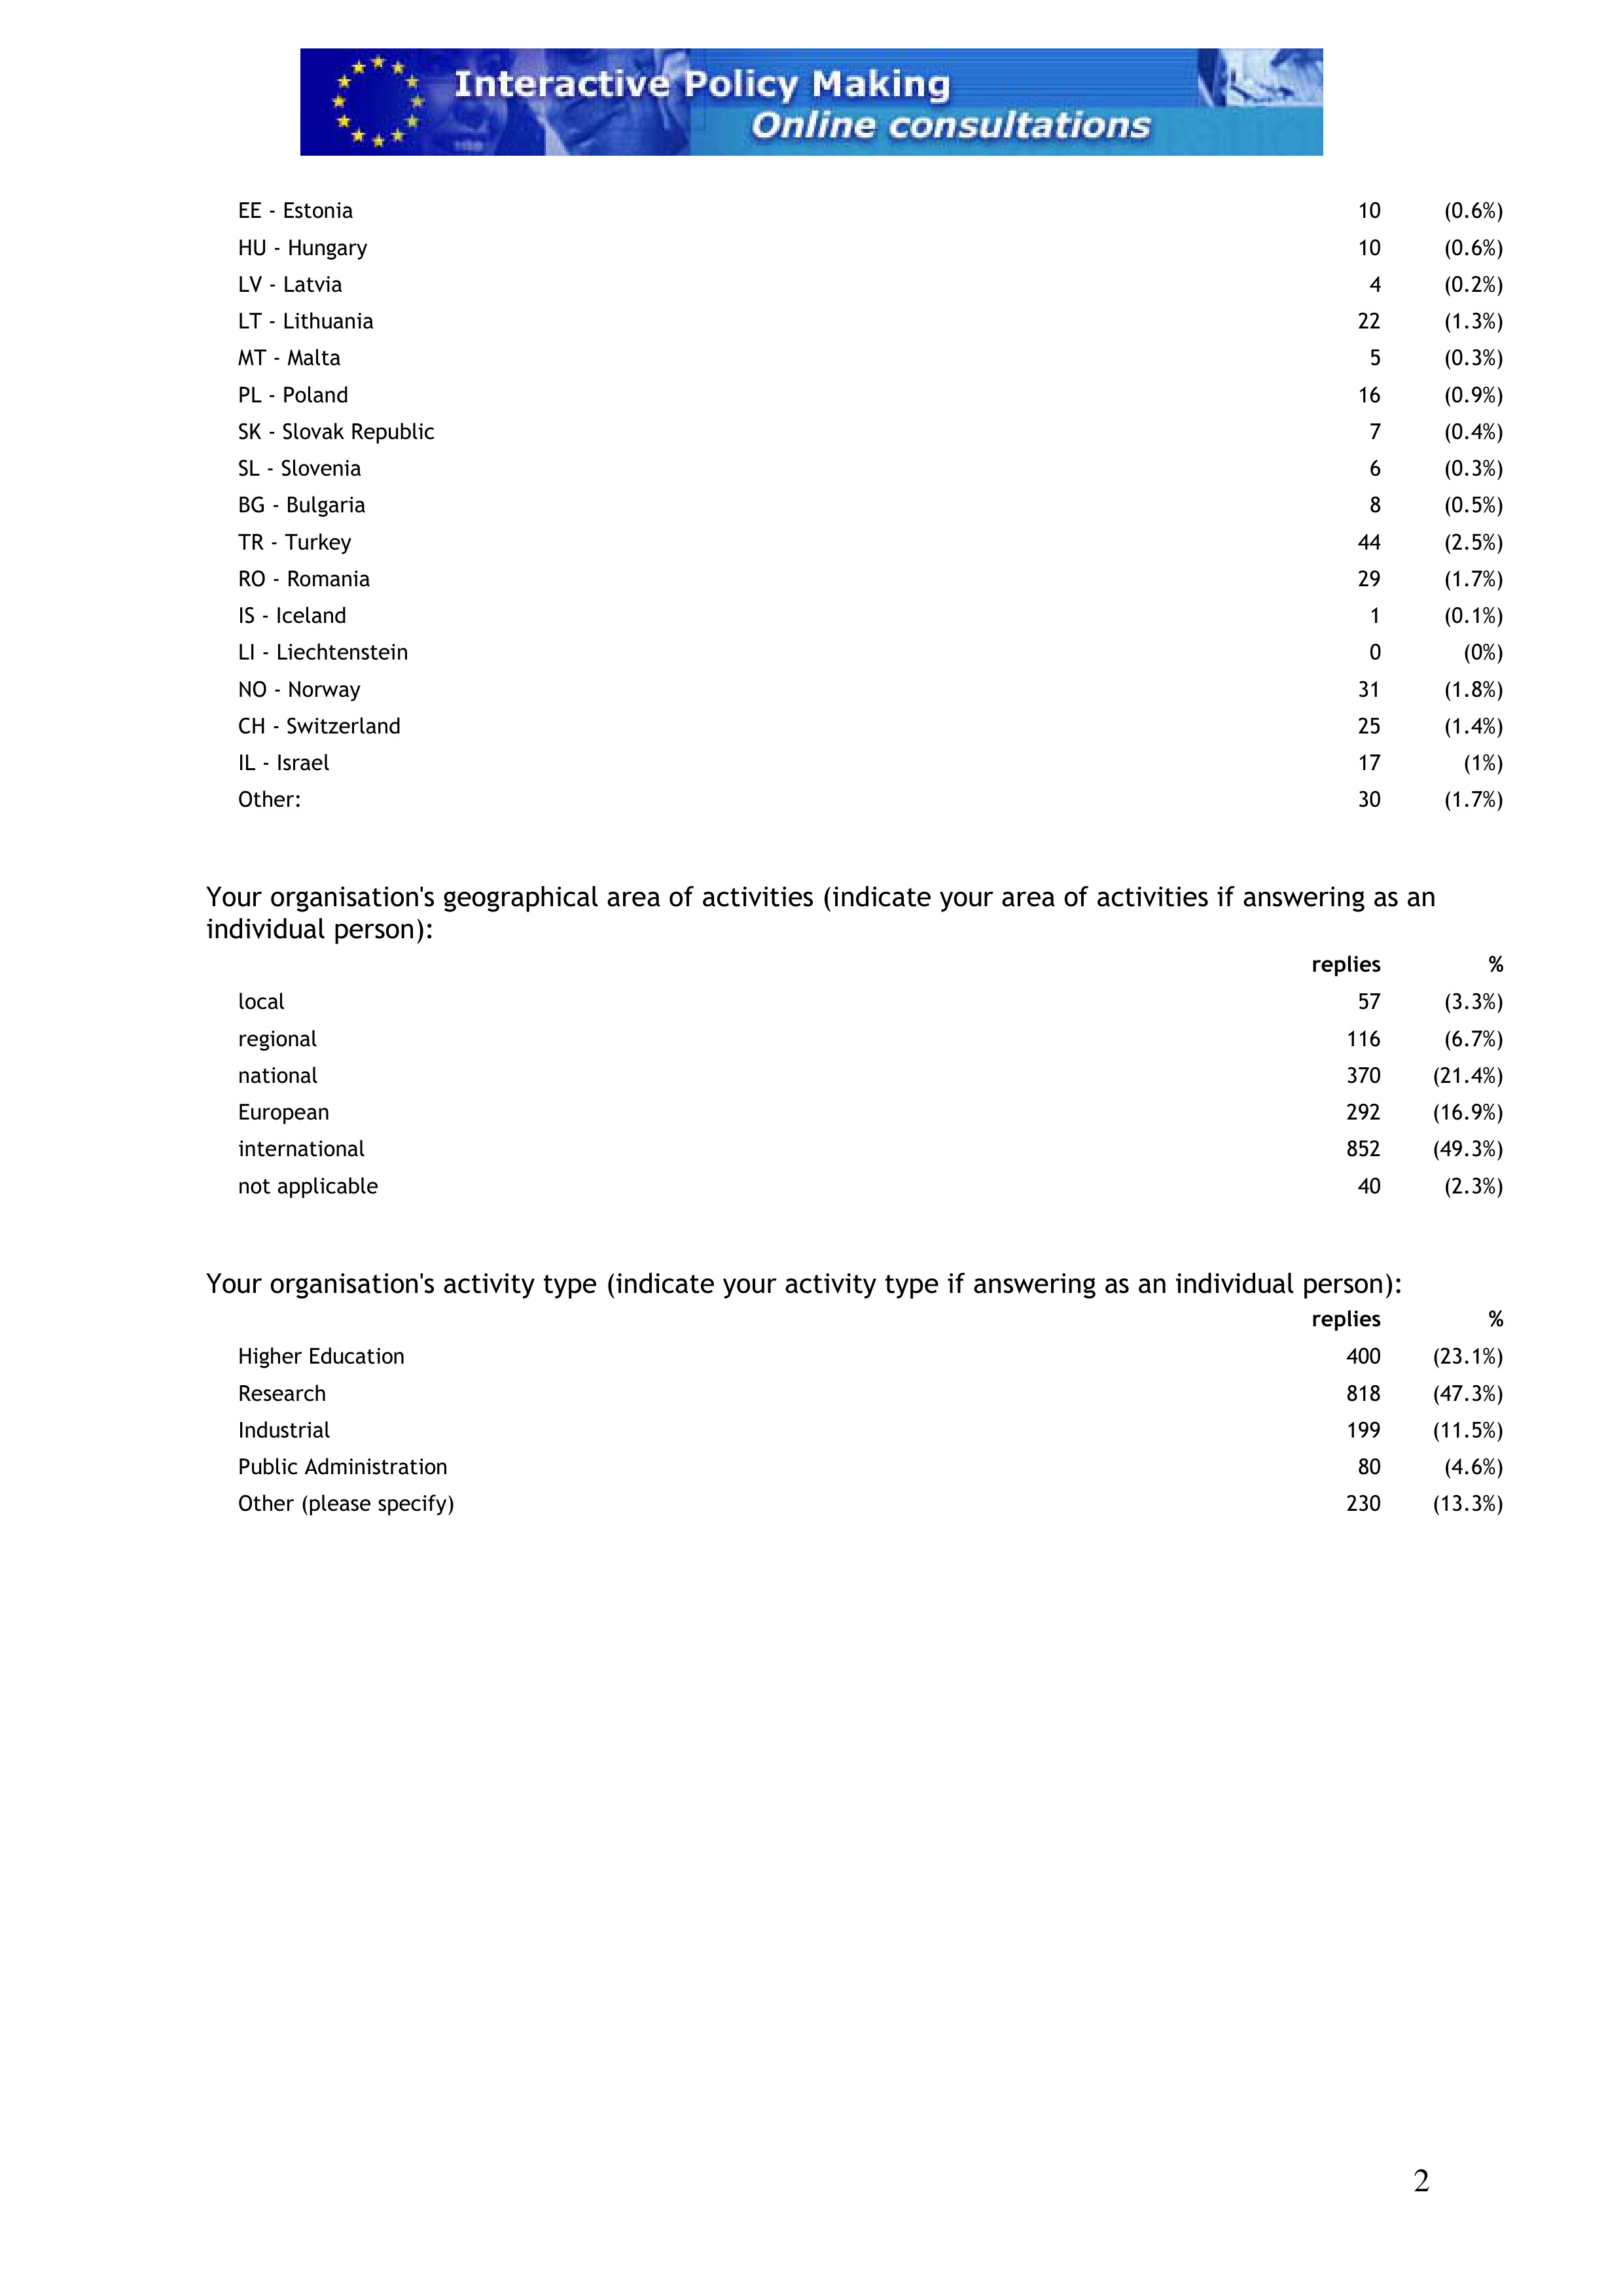table: (239, 198, 1504, 813), (239, 951, 1504, 1199), (239, 1306, 1504, 1517)
